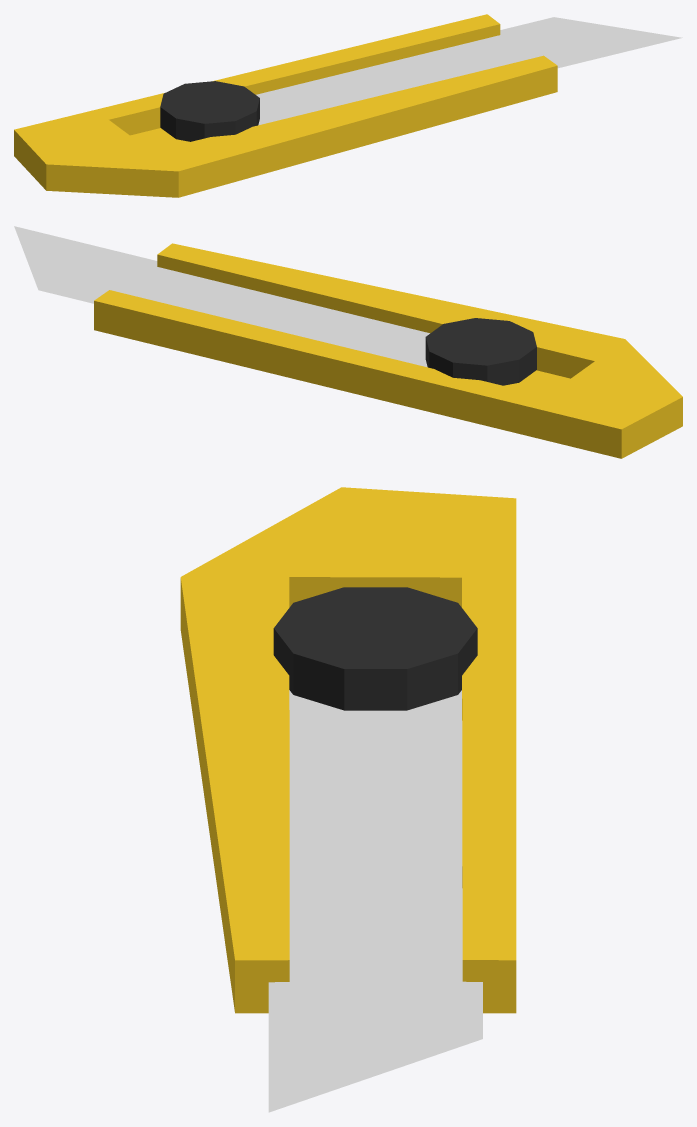
Rendered from exacto.fbx.
The picture shows the model from 3 angles, top to bottom: view 1: azimuth 30°, elevation 25°; view 2: azimuth 150°, elevation 25°; view 3: azimuth 270°, elevation 25°; orthographic projection. The views are drawn at different scales.
Parts seen in each view (by area): view 1: Cube, Plane, Cylinder; view 2: Cube, Plane, Cylinder; view 3: Cube, Plane, Cylinder.
Boxes of the visible parts, bbox=[...] form: Cube: bbox=[14, 14, 557, 197]; Plane: bbox=[256, 17, 682, 125]; Cylinder: bbox=[160, 81, 259, 141]; Cube: bbox=[94, 243, 682, 458]; Plane: bbox=[14, 226, 429, 367]; Cylinder: bbox=[425, 318, 536, 385]; Cube: bbox=[180, 487, 516, 1013]; Plane: bbox=[268, 690, 482, 1112]; Cylinder: bbox=[273, 587, 477, 710].
Bounding box in the file's own units: 166 × 10.27 × 38.98.
